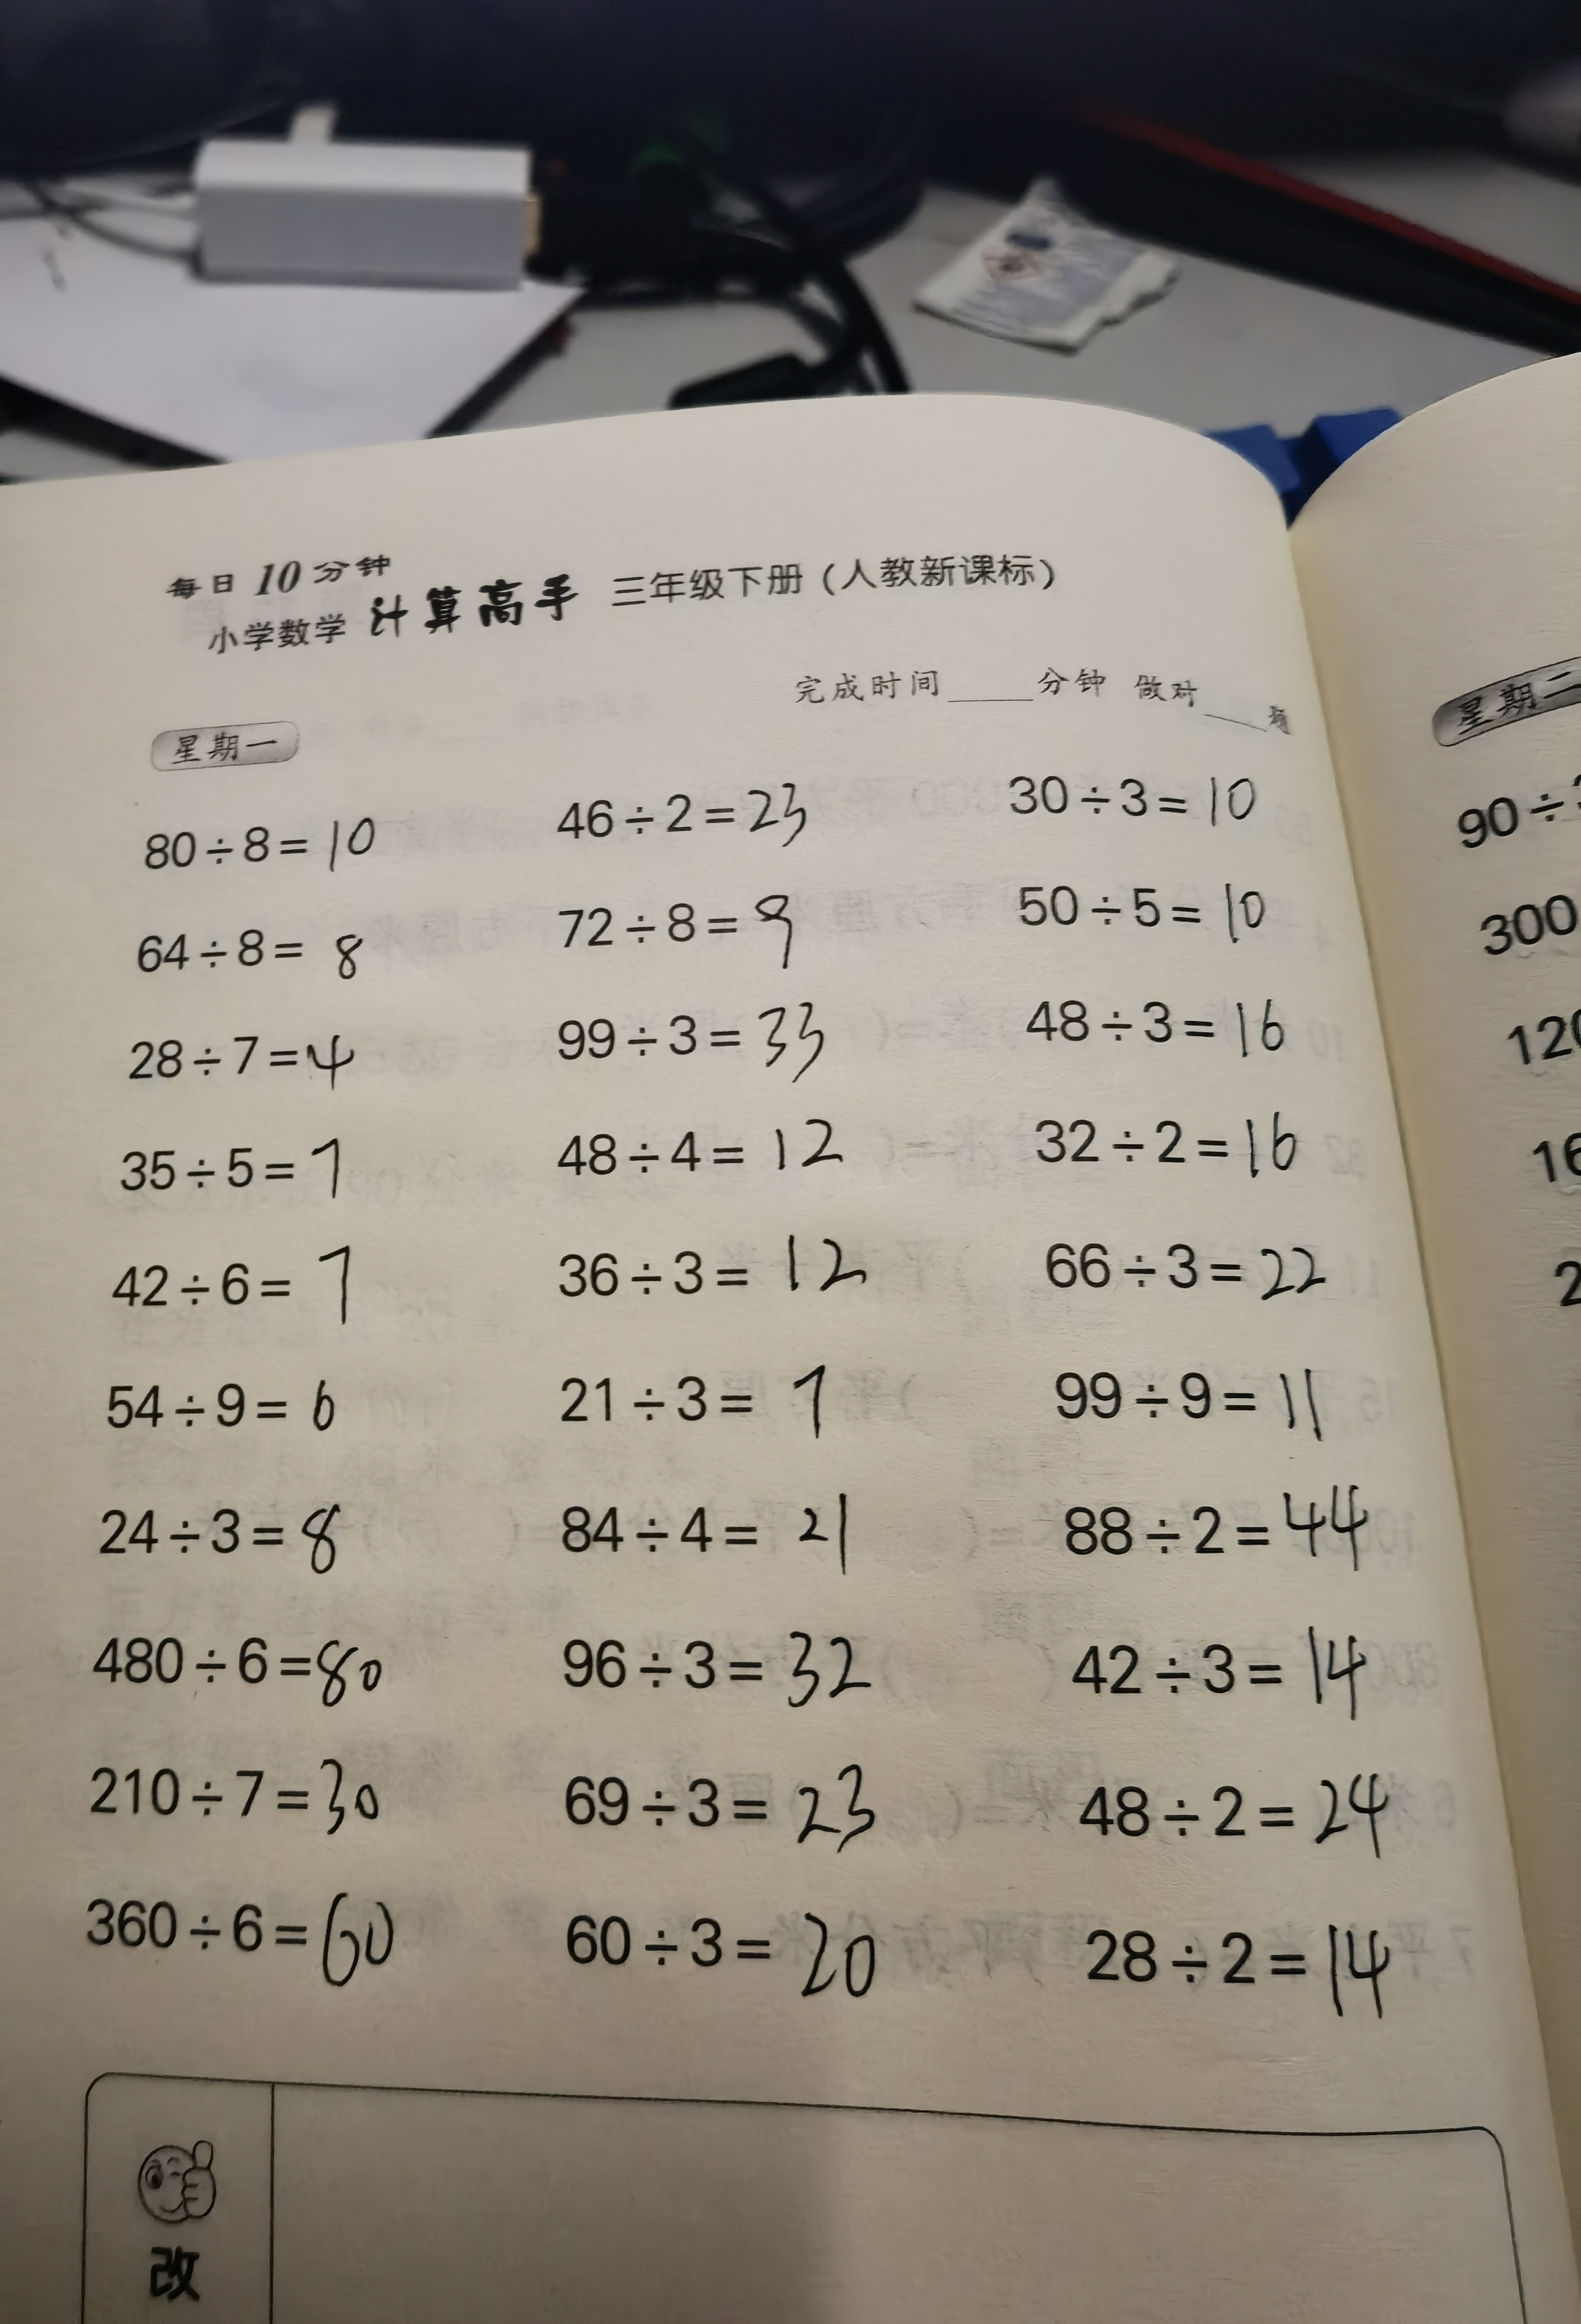equation: (1016, 1599, 1387, 1736), (76, 1867, 439, 2005), (1068, 1902, 1438, 2035), (1038, 1738, 1431, 1862), (551, 1879, 919, 2008), (1027, 1473, 1385, 1593), (1025, 1348, 1367, 1466), (542, 1609, 898, 1721), (71, 1233, 411, 1345), (543, 1472, 882, 1583), (547, 1754, 912, 1856), (542, 1345, 900, 1447), (1030, 1216, 1357, 1322), (1008, 1085, 1322, 1191), (545, 1212, 880, 1311), (552, 1096, 875, 1198), (72, 1759, 399, 1860), (997, 963, 1309, 1068), (78, 1623, 418, 1719), (85, 1486, 385, 1590), (113, 1001, 408, 1101), (104, 1112, 390, 1214), (109, 895, 408, 992), (88, 1361, 376, 1459), (538, 769, 845, 861), (111, 796, 401, 888), (997, 764, 1288, 854), (1006, 863, 1286, 953), (545, 1001, 835, 1076), (529, 898, 819, 965)
